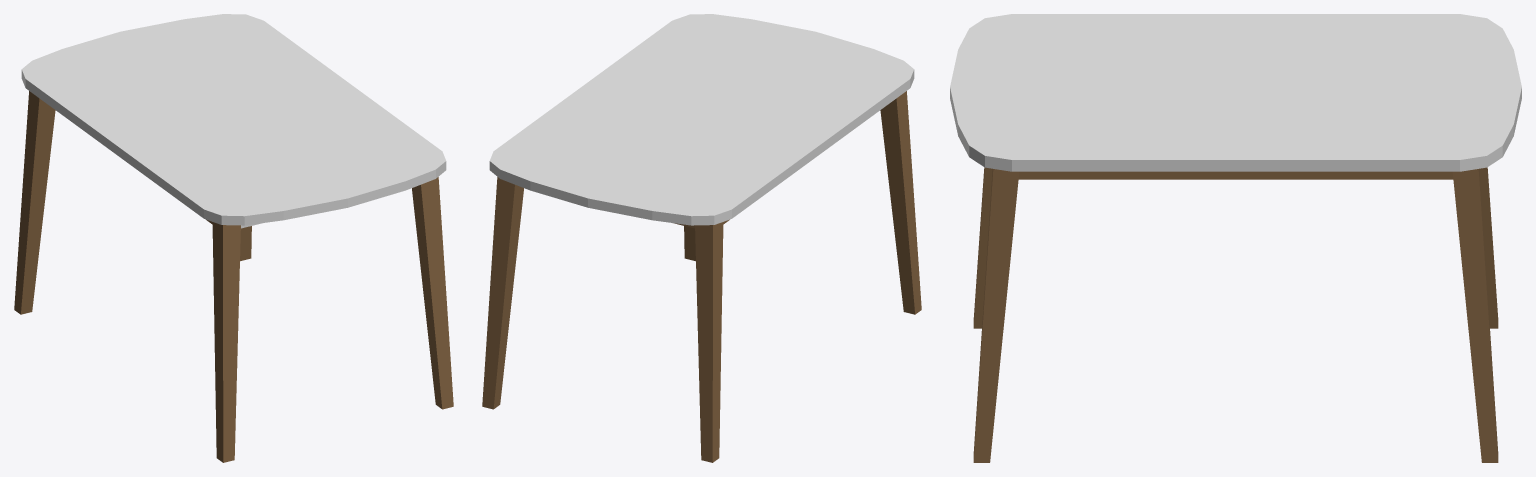
Rendered from Table_04_C1.fbx.
The picture shows the model from 3 angles, left to right: view 1: azimuth 30°, elevation 25°; view 2: azimuth 150°, elevation 25°; view 3: azimuth 270°, elevation 25°; orthographic projection. The views are drawn at different scales.
Parts seen in each view (by area): view 1: Table_04_C1; view 2: Table_04_C1; view 3: Table_04_C1.
Part boxes in pixels (x1,y1,x2,y2): Table_04_C1: (14,14,453,462); Table_04_C1: (482,14,921,462); Table_04_C1: (950,14,1521,462).
Size of the model in its own units: 80 by 78 by 132.
